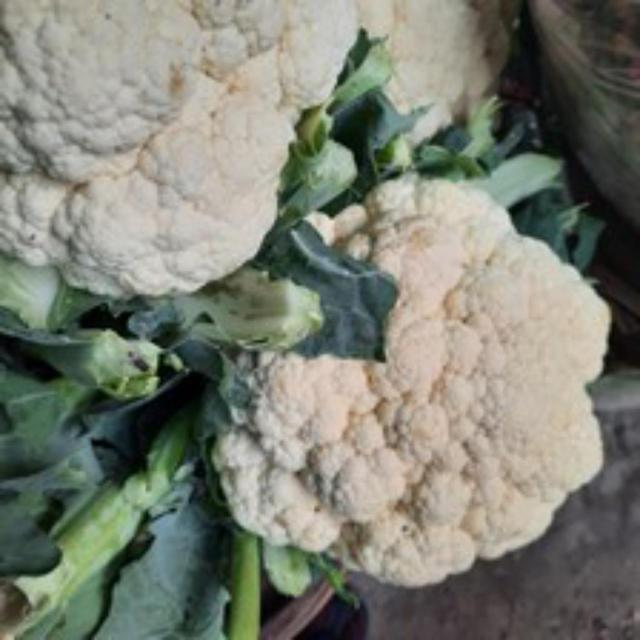cauliflower: (206, 170, 606, 585)
